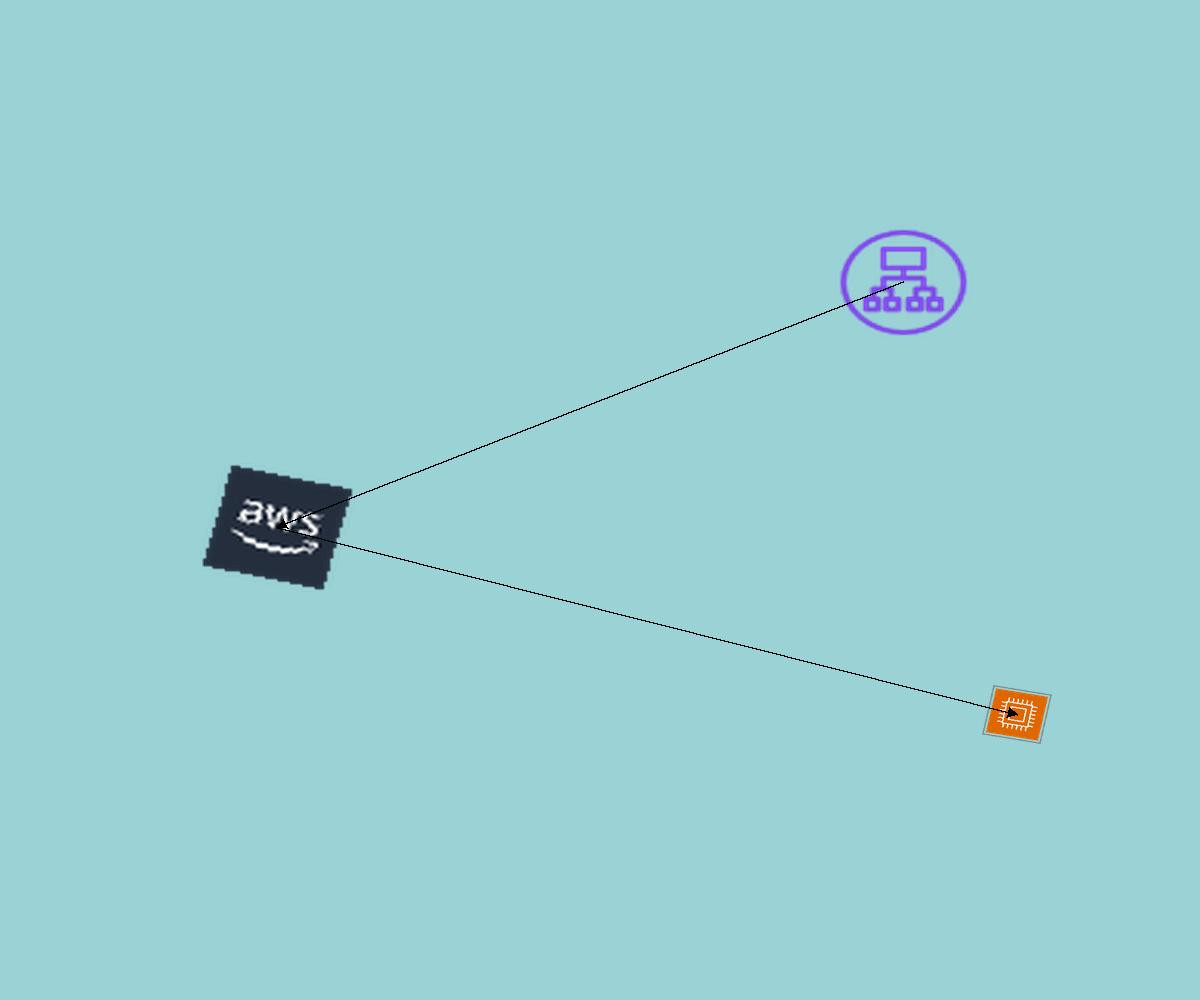AWS-Category_Compute: (982, 685, 1052, 744)
AWS-Cloud-logo: (200, 463, 355, 592)
AWS-Res_Elastic-Load-Balancing_Application-Load-Balancer: (832, 223, 975, 342)
